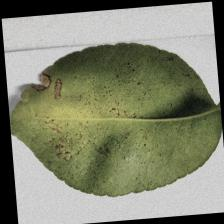canker: (26, 64, 100, 180)
